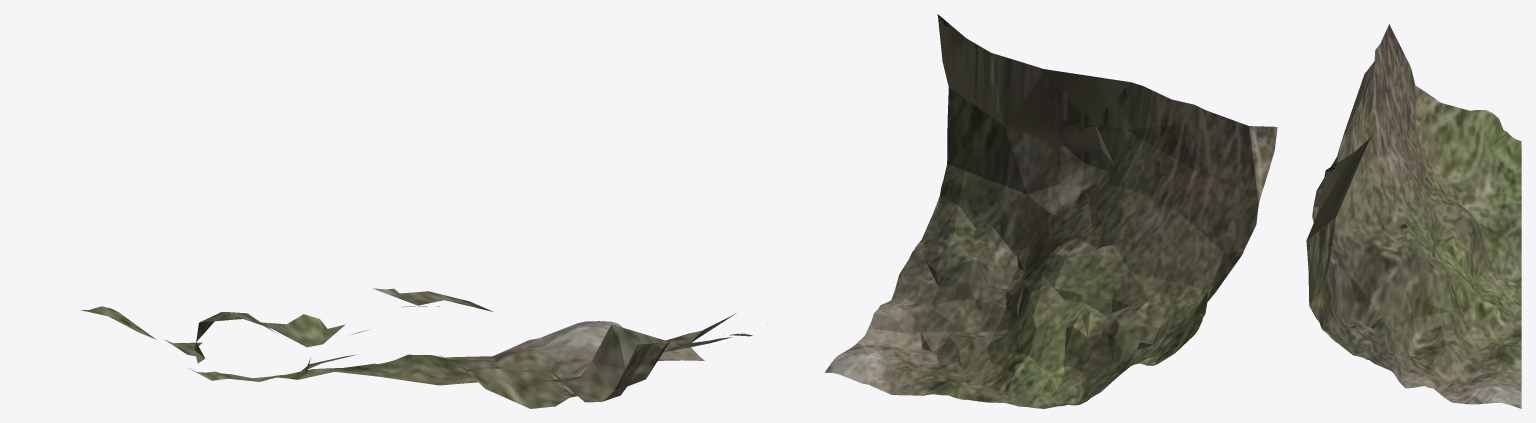
3 renders of one model, left to right at view 1: azimuth 30°, elevation 25°; view 2: azimuth 150°, elevation 25°; view 3: azimuth 270°, elevation 25°, orthographic. The views are drawn at different scales.
Bounding box in the file's own units: 5.9 × 4.28 × 3.43.
2 materials, 2 textured.
